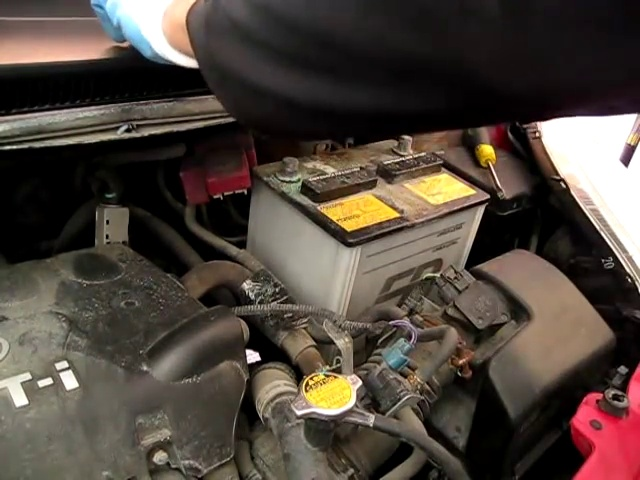battery: (255, 134, 490, 237)
neg_disconnected: (374, 124, 439, 167)
pos_disconnected: (197, 137, 302, 201)
